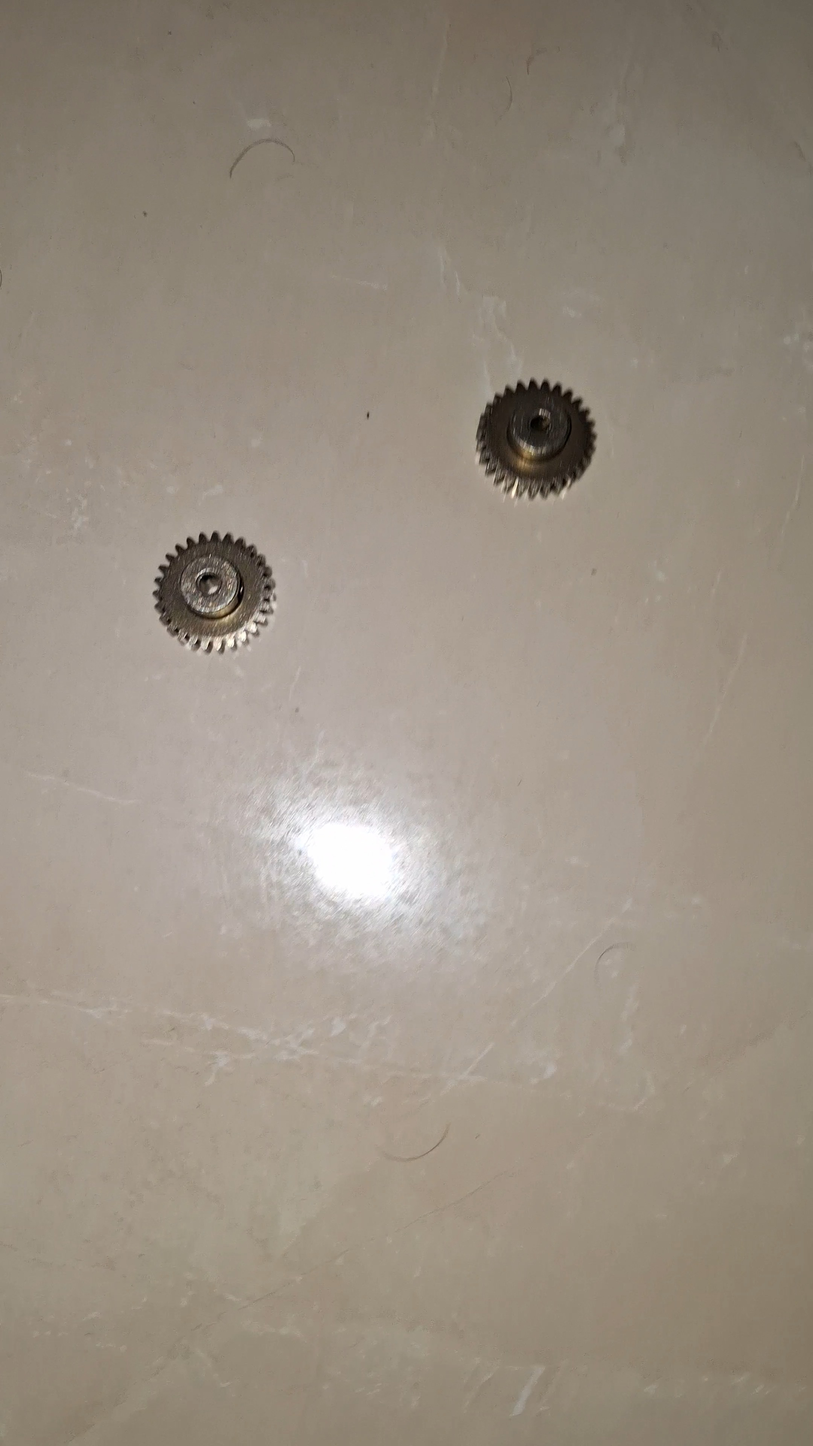spur gear: (154, 532, 274, 652), (477, 381, 595, 497)
